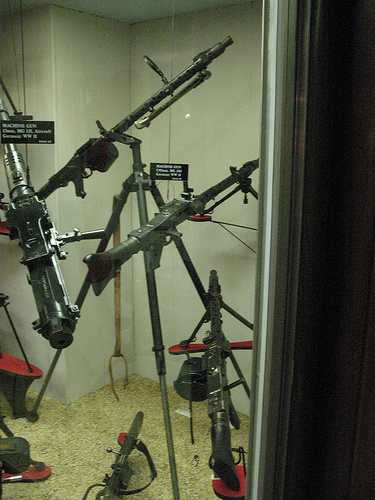rifle: (97, 163, 257, 269), (84, 34, 244, 140), (6, 129, 73, 336), (187, 269, 243, 480)
